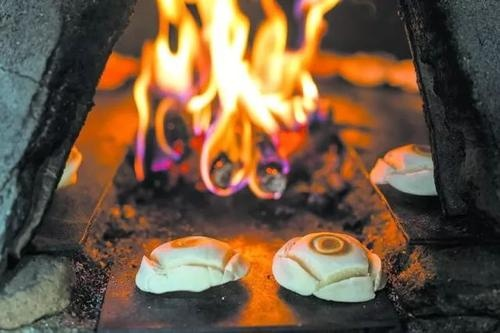fire: (132, 1, 341, 197)
